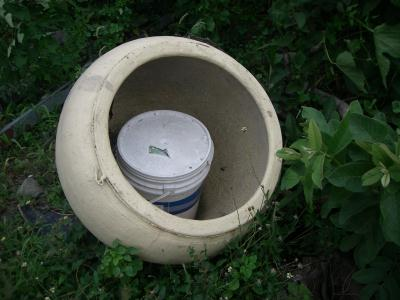bowl: (52, 33, 287, 267)
bucket: (112, 106, 217, 220)
